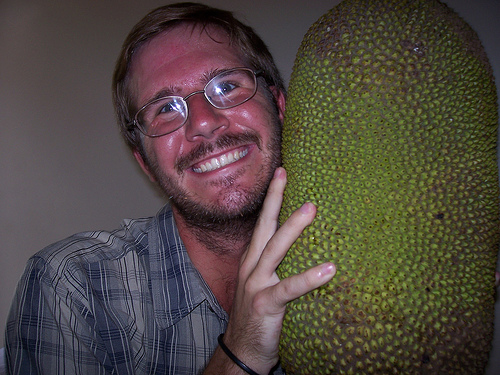jackfruit: (276, 0, 499, 374)
